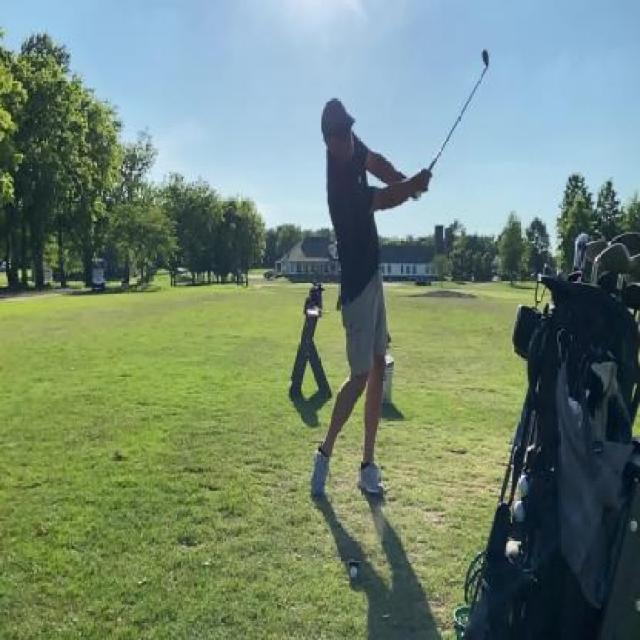club head: (482, 49, 489, 73)
